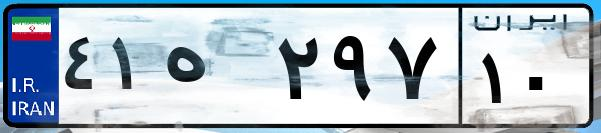0: (525, 38, 570, 115)
1: (475, 38, 525, 113), (110, 28, 158, 98)
2: (270, 28, 330, 110)
4: (57, 26, 110, 100)
7: (385, 28, 445, 110)
9: (330, 28, 385, 110)
ه: (158, 20, 270, 120)
